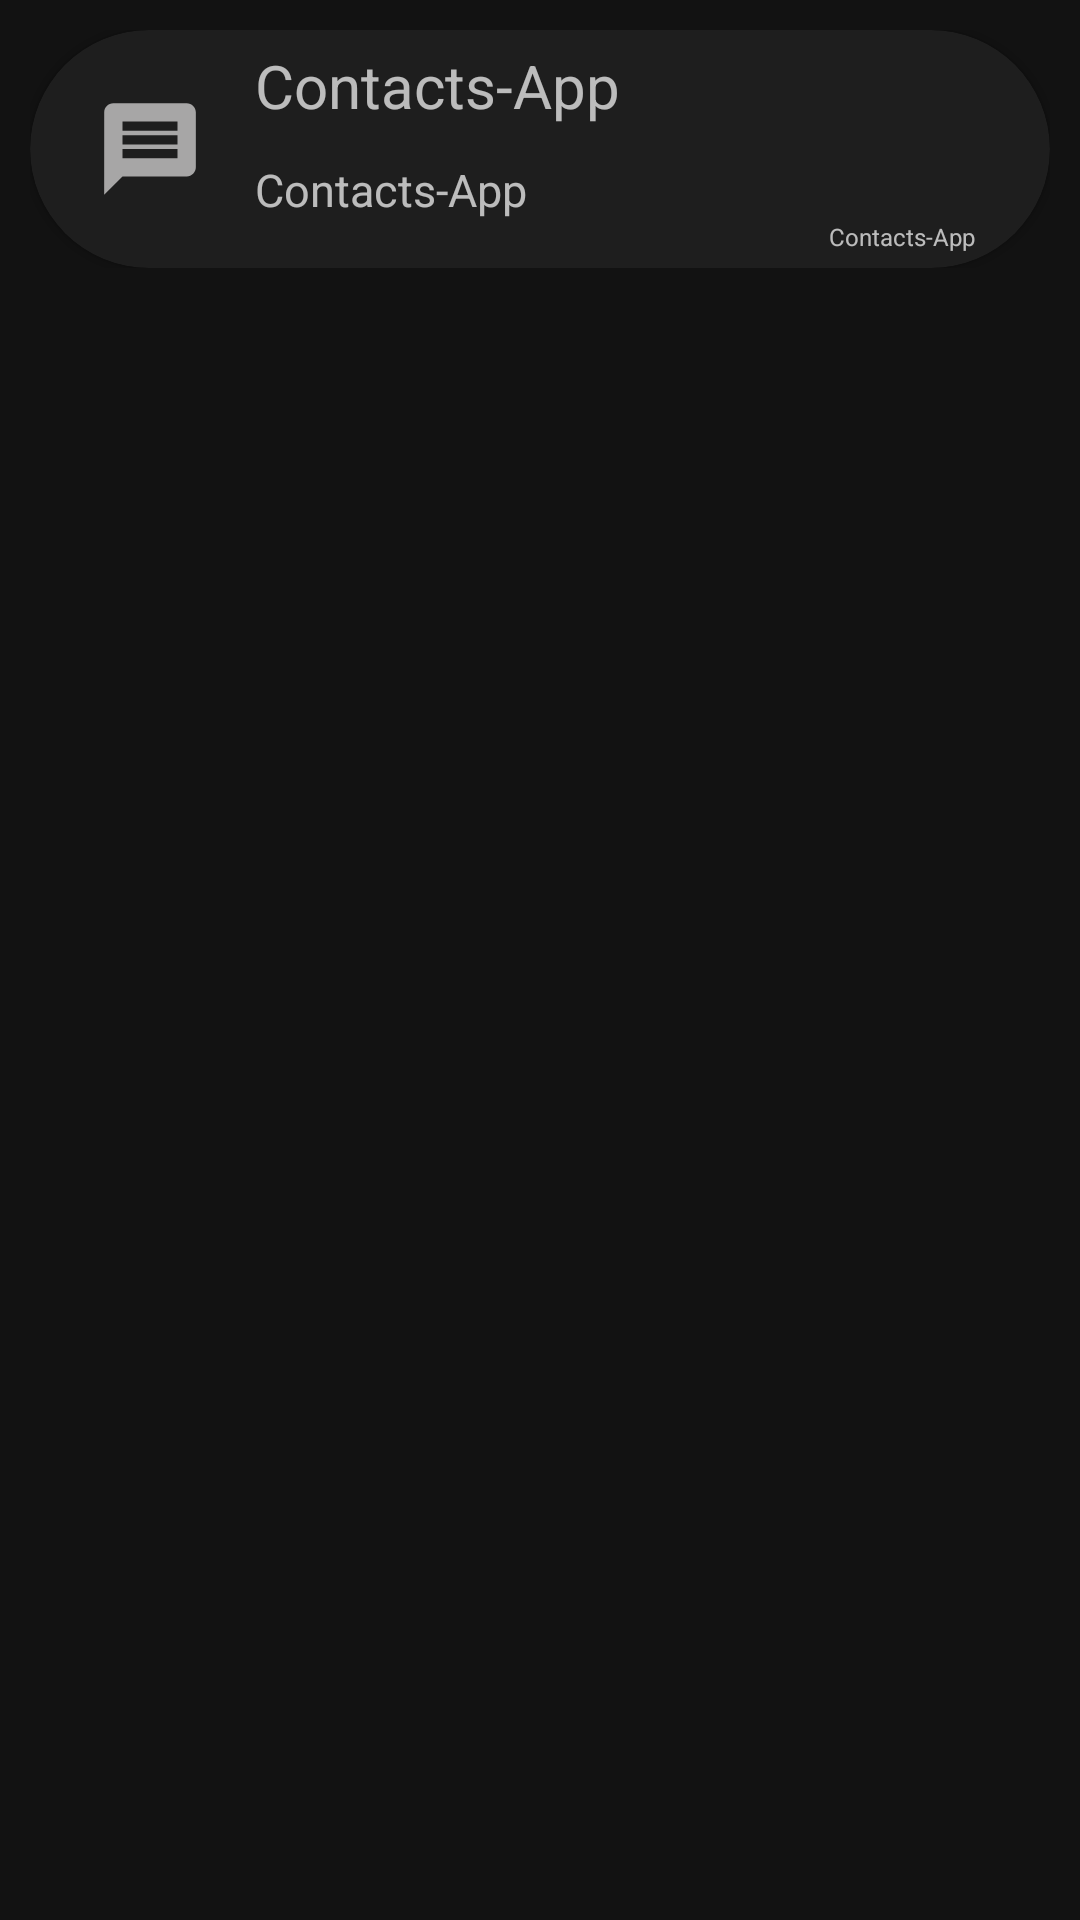

Icon bounding boxes for this 1080px×1920px phone screenshot, format (x1, y1, x2, y2):
message: (104, 103, 196, 195)
